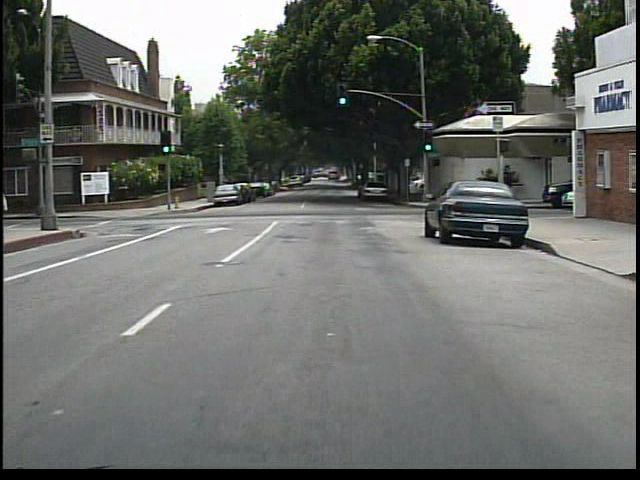person: (500, 170, 523, 208)
